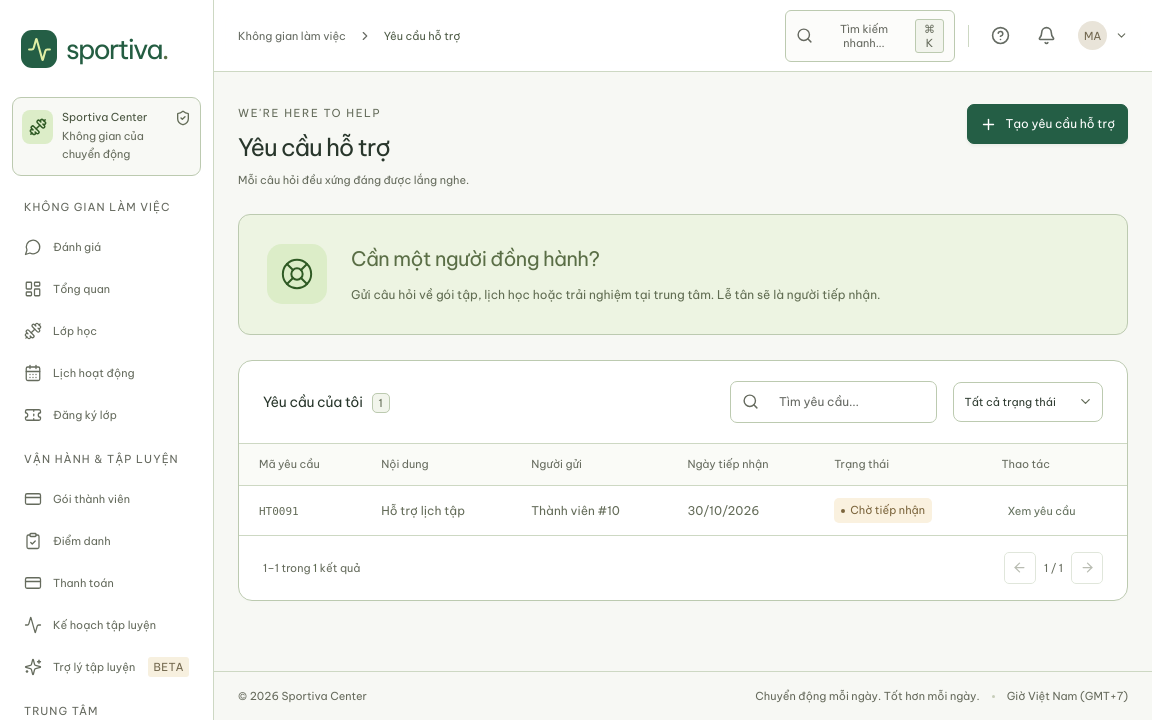
Test case: Support — API thật được mock, không ghi database › loads only the member endpoint with authentication and no resolve/create-for-other controls
Click the button "Hỗ trợ lịch tập" at (423, 511), box [381,503,465,518]
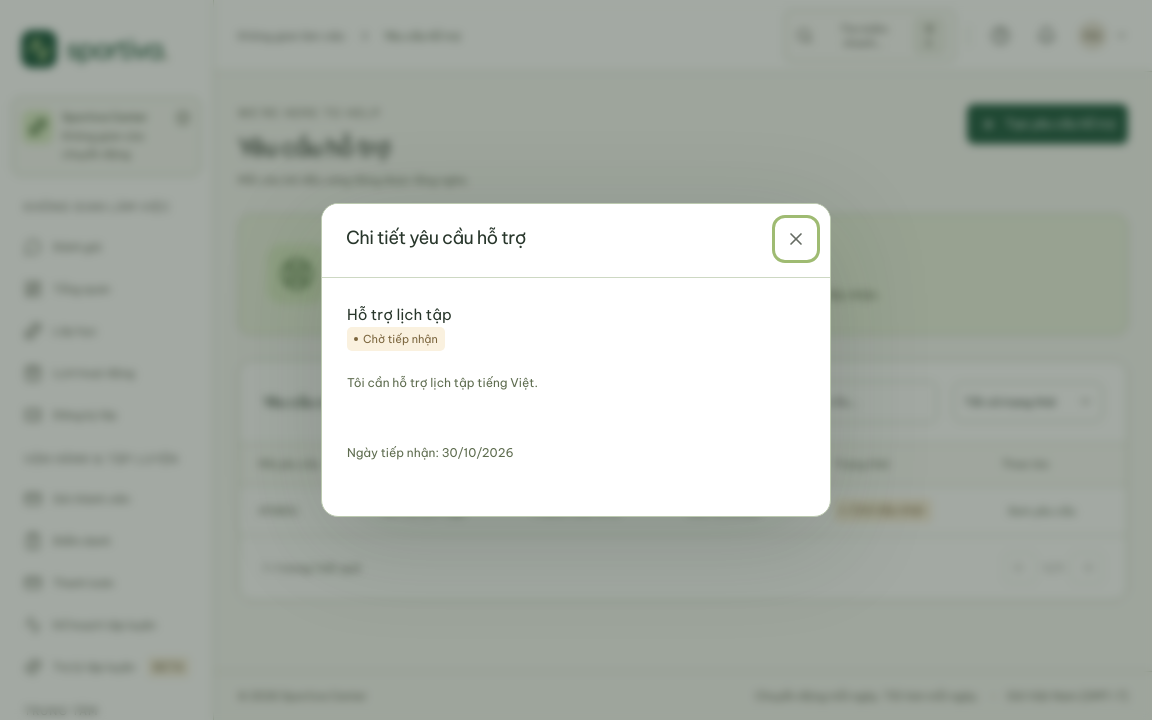
Expected: the text "Tôi cần hỗ trợ lịch tập tiếng Việt." is shown, [347,375,538,390]
